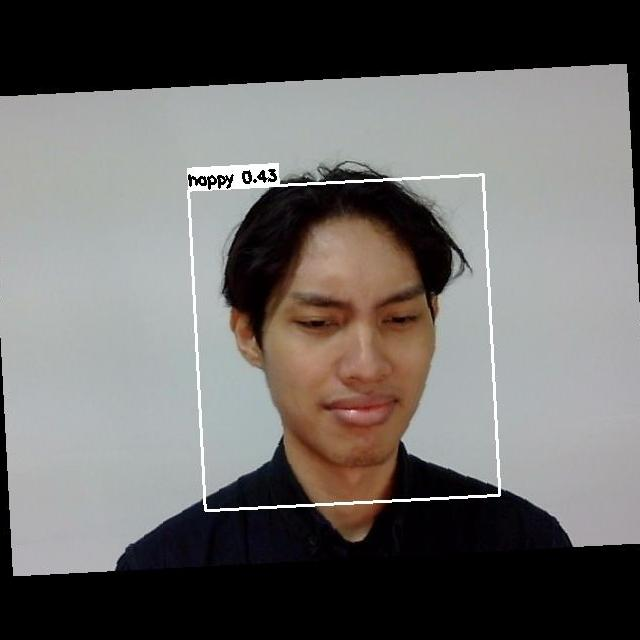Disgust: (253, 252, 432, 440)
